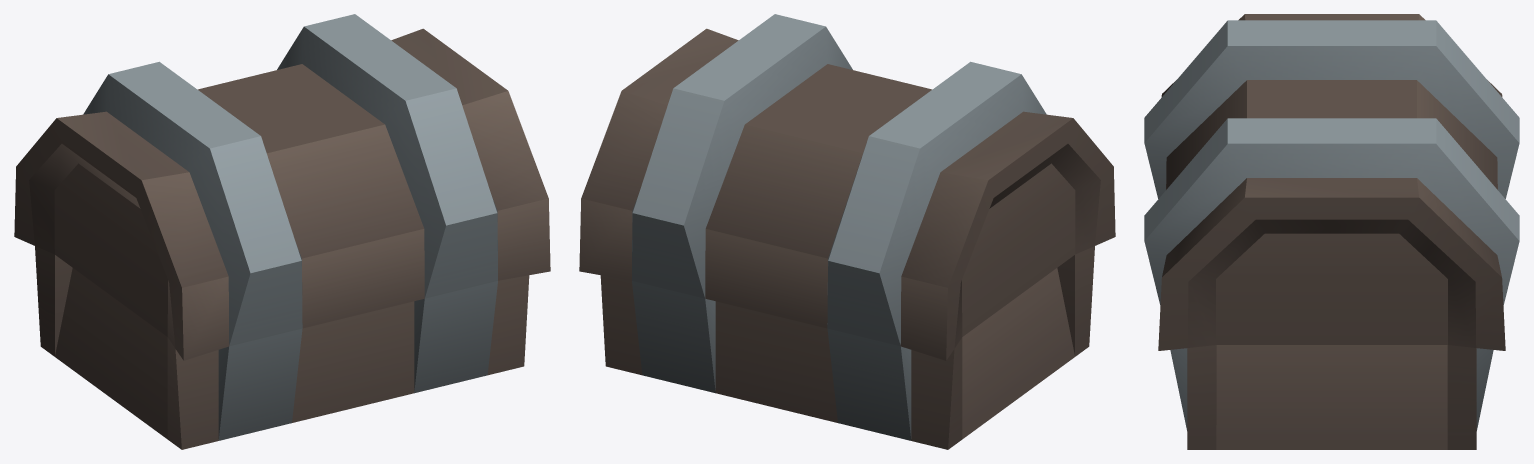
File: trunk_small_b.gltf
3 views of the same model, side by side, from view 1: azimuth 30°, elevation 25°; view 2: azimuth 150°, elevation 25°; view 3: azimuth 270°, elevation 25° (orthographic). The views are drawn at different scales.
Visible parts, largest first — view 1: trunk_small_B; view 2: trunk_small_B; view 3: trunk_small_B.
Boxes of the visible parts, x1,y1,x2,y2 form: trunk_small_B: (14, 14, 550, 449); trunk_small_B: (579, 14, 1115, 449); trunk_small_B: (1144, 14, 1519, 449).
Bounding box in the file's own units: 0.6754 × 0.4843 × 0.5834.
Materials: 1 (1 with a texture image).
